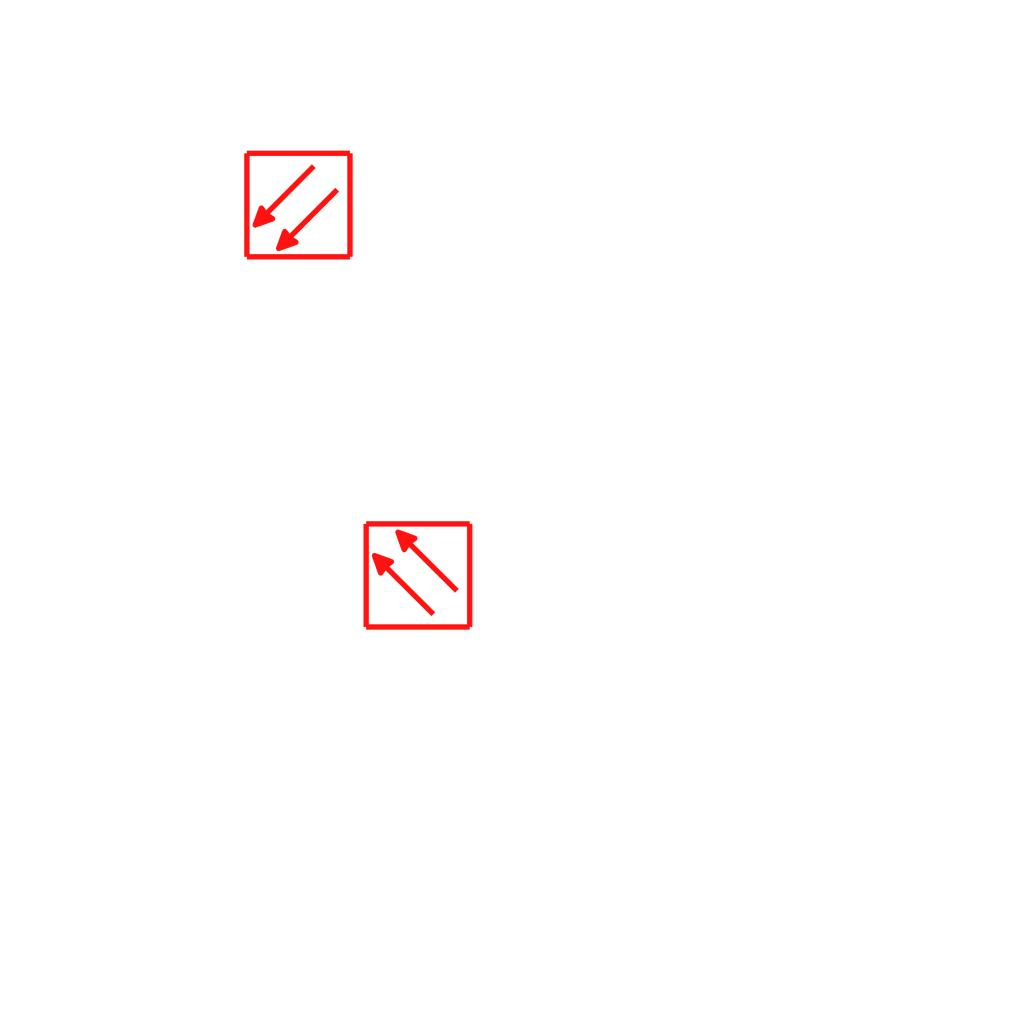RMO_Rauchmelder_optischer: (361, 519, 474, 632), (242, 149, 355, 262)
